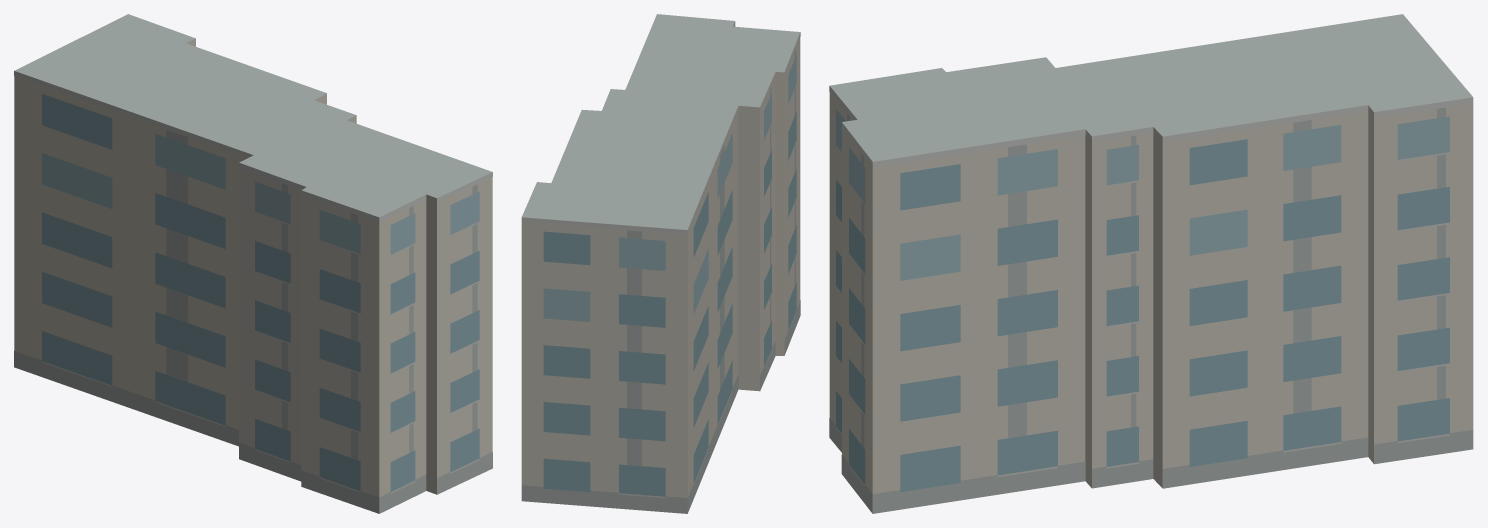
The model's file is survey-upis-32874072.glb.
3 views of the same model, side by side, from view 1: azimuth 30°, elevation 25°; view 2: azimuth 150°, elevation 25°; view 3: azimuth 270°, elevation 25° (orthographic). The views are drawn at different scales.
Visible parts, largest first — view 1: survey-upis-32874072.tmp; view 2: survey-upis-32874072.tmp; view 3: survey-upis-32874072.tmp.
Boxes of the visible parts, bbox=[...] form: survey-upis-32874072.tmp: bbox=[14, 14, 492, 513]; survey-upis-32874072.tmp: bbox=[521, 14, 800, 513]; survey-upis-32874072.tmp: bbox=[829, 14, 1473, 513].
Bounding box in the file's own units: 12.62 × 14 × 23.22.
